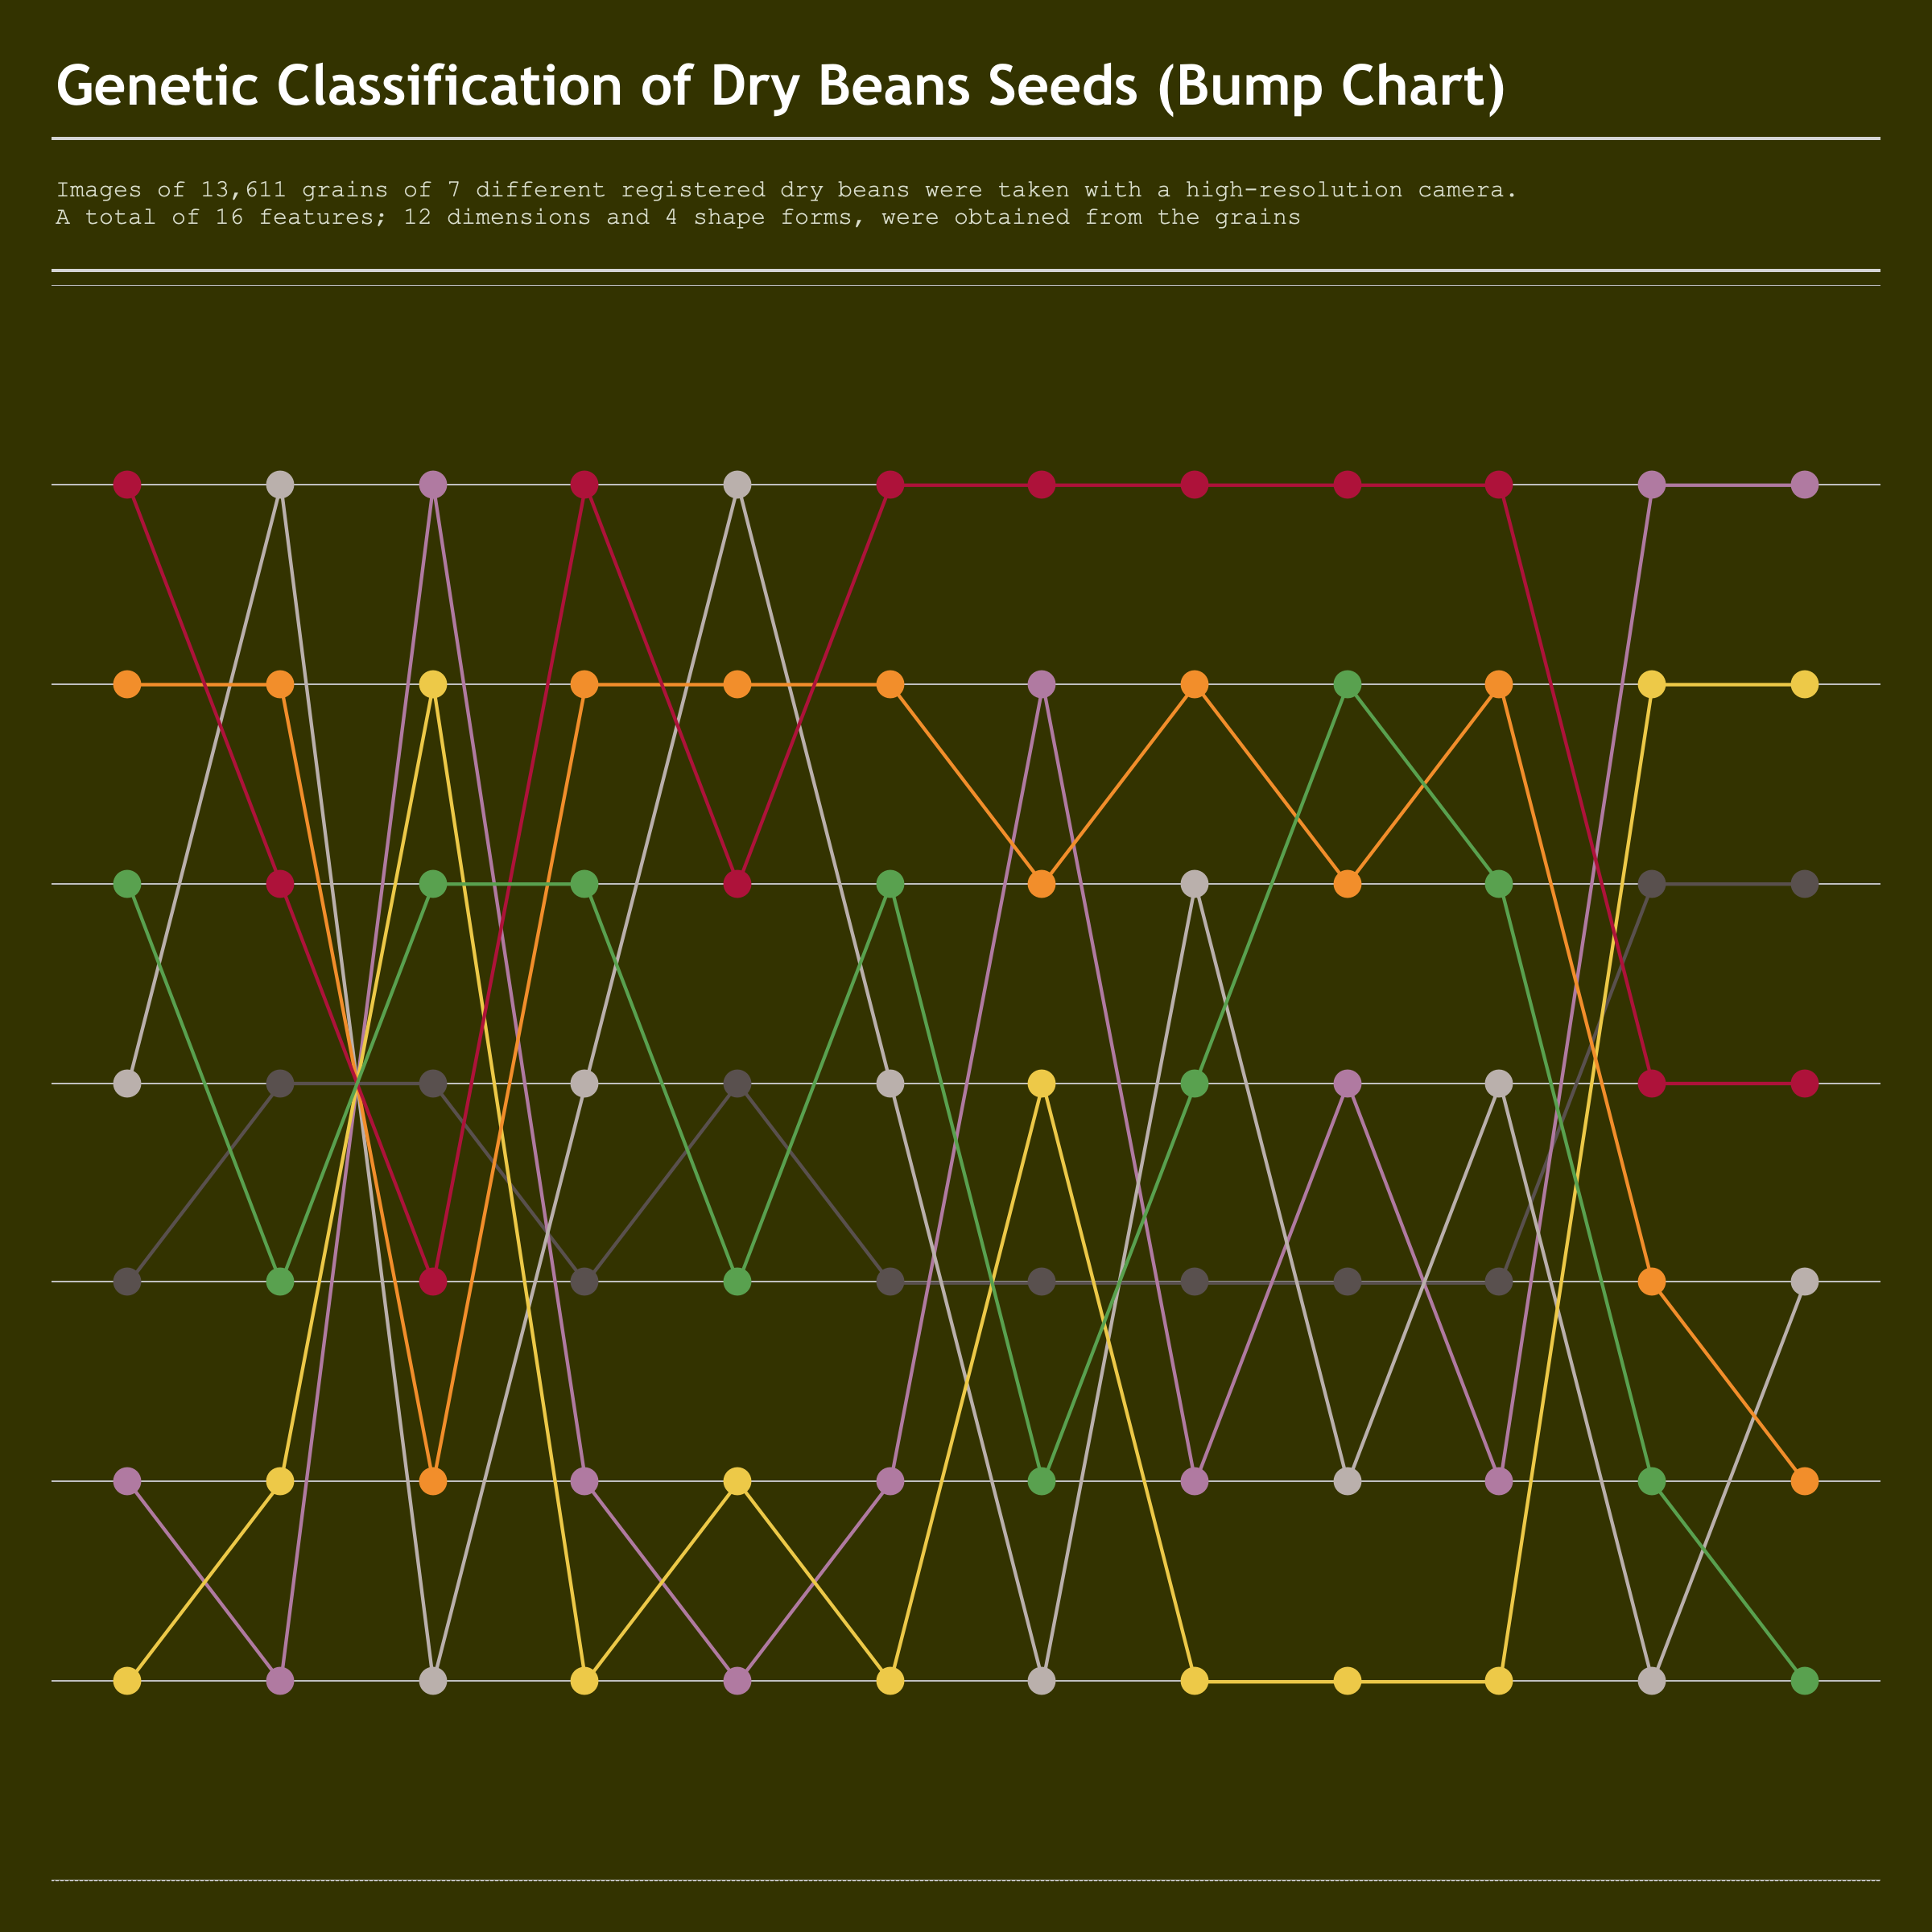

Layout of this report page (visuals, bound fields, positions):
{"tool":"tableau","page":{"name":"Bump Chart Dashboard","canvas":[1200,1200],"ordinal":0},"visuals":[{"type":"text","box":[28,28,1144,53]},{"type":"blank","box":[28,81,1144,10]},{"type":"text","box":[28,91,1144,72]},{"type":"blank","box":[28,163,1144,10]},{"type":"worksheet","title":"Bump Chart","mark":"Automatic","rows":["Pivot Field Values","Pivot Field Values"],"cols":["Pivot Field Names"],"box":[28,173,1144,999]}]}

Visuals, with their boxes in screenshot pixels (x1, y1, x2, y2), scaled from the page's 1200x1200 canvas onto the 1932x1932 screenshot:
text: (left=45, top=45, right=1887, bottom=130)
blank: (left=45, top=130, right=1887, bottom=147)
text: (left=45, top=147, right=1887, bottom=262)
blank: (left=45, top=262, right=1887, bottom=279)
"Bump Chart" worksheet: (left=45, top=279, right=1887, bottom=1887)
